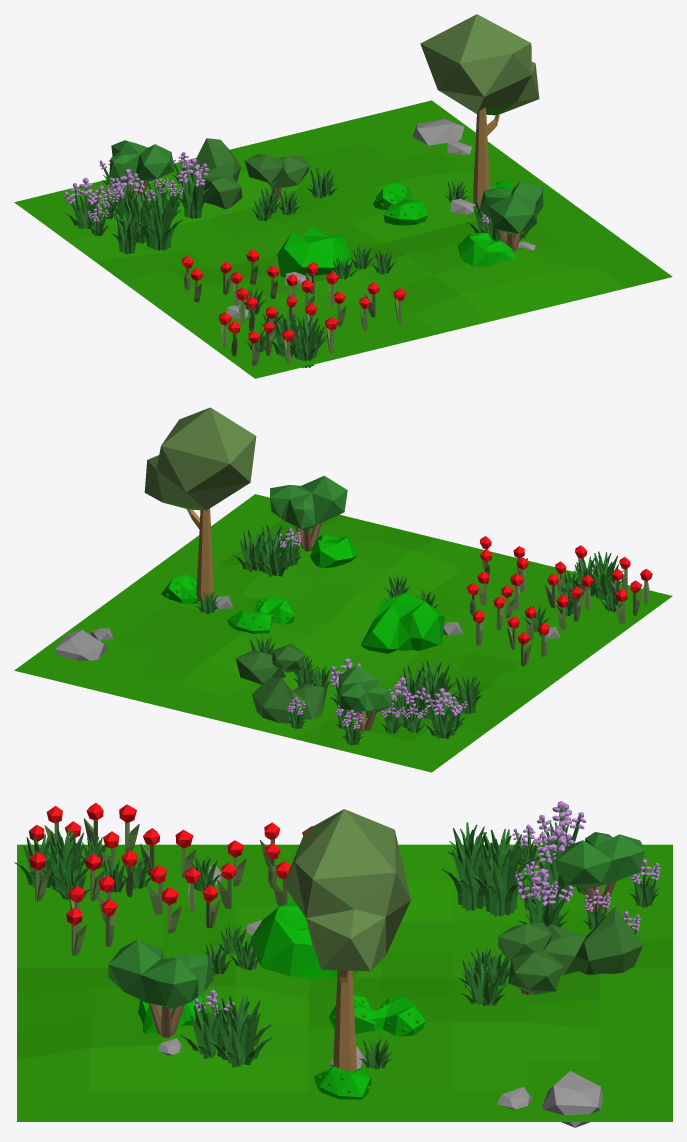
File: MEADOW_FIELD05.fbx
3 views of the same model, one above another, from view 1: azimuth 30°, elevation 25°; view 2: azimuth 150°, elevation 25°; view 3: azimuth 270°, elevation 25° (orthographic). The views are drawn at different scales.
Parts seen in each view (by area): view 1: Grid.001; view 2: Grid.001; view 3: Grid.001.
Boxes of the visible parts, <box> form: Grid.001: <box>14,14,672,378</box>; Grid.001: <box>14,407,672,772</box>; Grid.001: <box>14,801,672,1127</box>.
Size of the model in its own units: 1000 by 498 by 1005.
